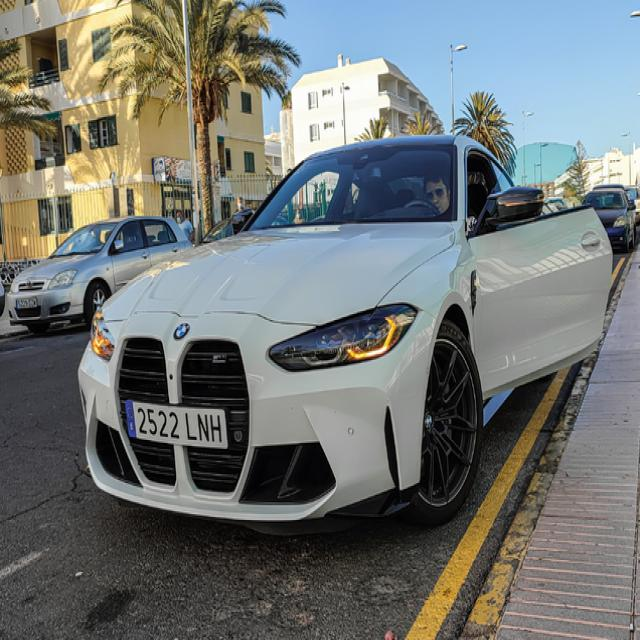License-Plate: (125, 398, 230, 451), (15, 298, 38, 308)
